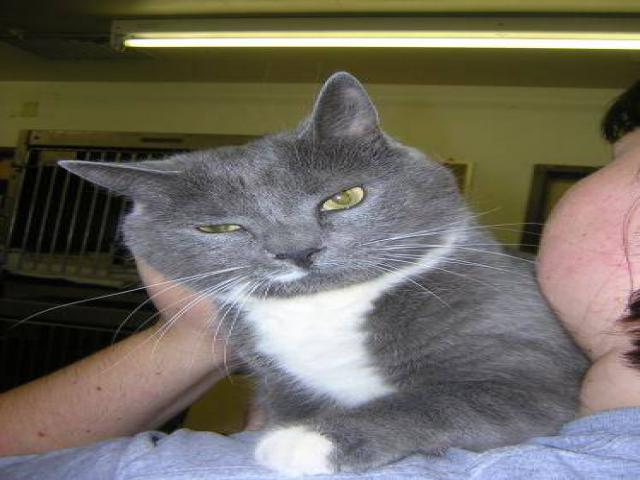cat: (34, 69, 594, 475)
